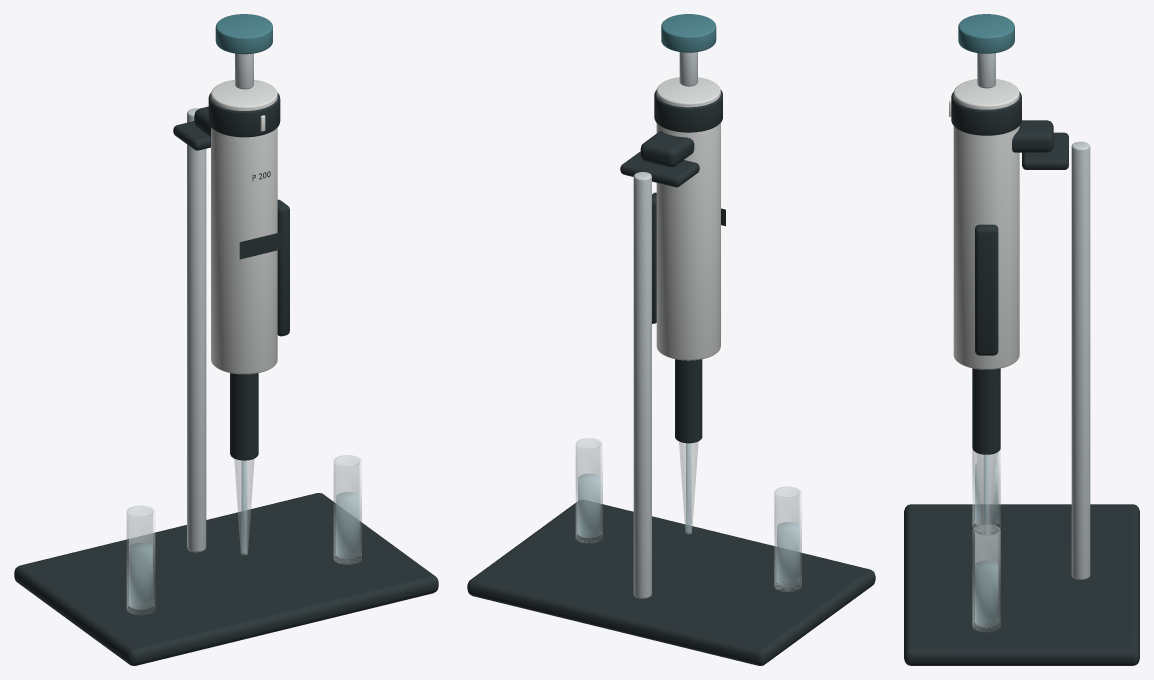
The model's file is preview.glb.
The picture shows the model from 3 angles, left to right: view 1: azimuth 30°, elevation 25°; view 2: azimuth 150°, elevation 25°; view 3: azimuth 270°, elevation 25°; orthographic projection. The views are drawn at different scales.
Visible parts, largest first — view 1: Hook support, Hand grip, Stand upright, Sample vessel, Sample vessel.001, Finger hook, Thumb pad, Volume collar, Eject lever, Vial liquid.001, Vial liquid, Disposable tip (+2 smaller); view 2: Hook support, Hand grip, Stand upright, Finger hook, Sample vessel, Sample vessel.001, Thumb pad, Volume collar, Vial liquid.001, Vial liquid, Disposable tip, Eject lever (+1 smaller); view 3: Hook support, Hand grip, Stand upright, Finger hook, Eject lever, Sample vessel.001, Thumb pad, Volume collar, Sample vessel, Vial liquid.001, Disposable tip, Plunger stem (+1 smaller).
Boxes of the visible parts, x1=… form: Hook support: x1=14, y1=121, x2=438, y2=665; Hand grip: x1=211, y1=79, x2=277, y2=374; Stand upright: x1=187, y1=108, x2=206, y2=552; Sample vessel: x1=126, y1=505, x2=155, y2=614; Sample vessel.001: x1=333, y1=455, x2=361, y2=564; Finger hook: x1=194, y1=106, x2=258, y2=460; Thumb pad: x1=215, y1=14, x2=272, y2=54; Volume collar: x1=208, y1=93, x2=280, y2=137; Eject lever: x1=277, y1=199, x2=289, y2=336; Vial liquid.001: x1=336, y1=492, x2=359, y2=558; Vial liquid: x1=129, y1=543, x2=152, y2=609; Disposable tip: x1=234, y1=459, x2=254, y2=554; Hook support: x1=467, y1=151, x2=875, y2=665; Hand grip: x1=656, y1=77, x2=720, y2=360; Stand upright: x1=633, y1=172, x2=651, y2=598; Finger hook: x1=640, y1=131, x2=702, y2=443; Sample vessel: x1=774, y1=486, x2=801, y2=591; Sample vessel.001: x1=575, y1=438, x2=602, y2=543; Thumb pad: x1=661, y1=14, x2=716, y2=52; Volume collar: x1=654, y1=89, x2=722, y2=132; Vial liquid.001: x1=578, y1=474, x2=600, y2=537; Vial liquid: x1=777, y1=522, x2=798, y2=586; Disposable tip: x1=679, y1=441, x2=698, y2=534; Eject lever: x1=652, y1=192, x2=656, y2=323; Hook support: x1=904, y1=132, x2=1139, y2=665; Hand grip: x1=953, y1=79, x2=1019, y2=369; Stand upright: x1=1071, y1=141, x2=1090, y2=579; Finger hook: x1=972, y1=120, x2=1053, y2=454; Eject lever: x1=975, y1=224, x2=998, y2=355; Sample vessel.001: x1=972, y1=524, x2=1000, y2=631; Thumb pad: x1=958, y1=14, x2=1014, y2=53; Volume collar: x1=951, y1=92, x2=1021, y2=135; Sample vessel: x1=972, y1=448, x2=1000, y2=531; Vial liquid.001: x1=975, y1=561, x2=997, y2=626; Disposable tip: x1=976, y1=453, x2=996, y2=534; Plunger stem: x1=977, y1=53, x2=995, y2=88.
Size of the model in its own units: 0.15 by 0.266 by 0.1.
